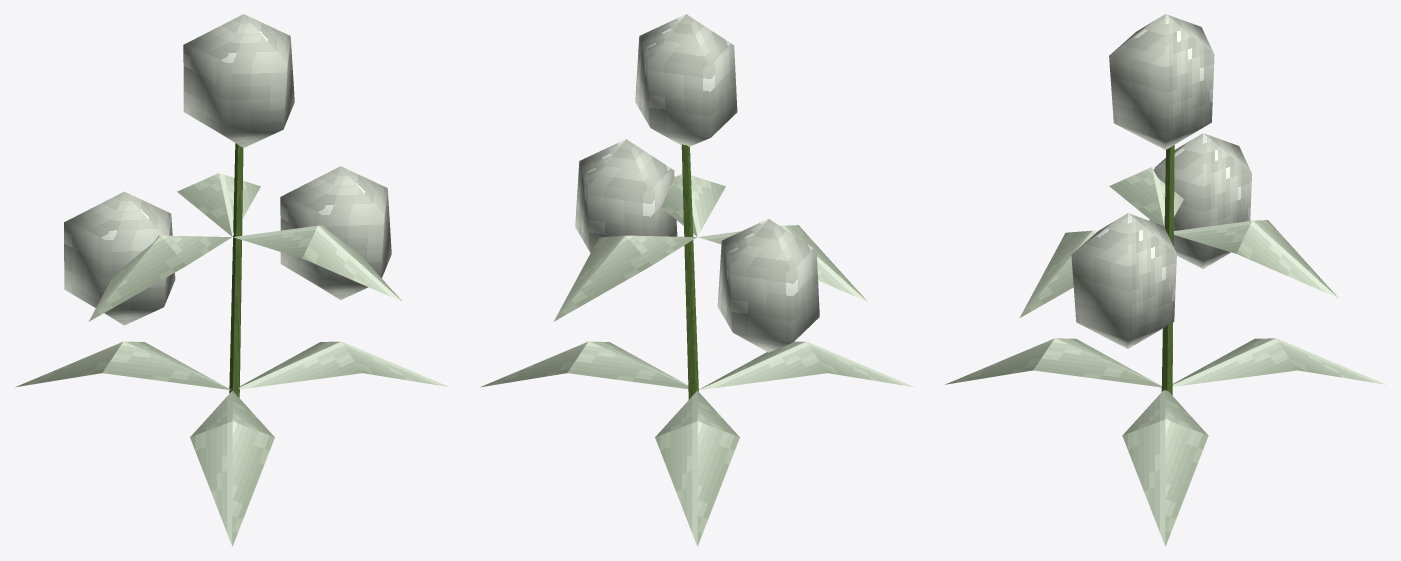
Rendered from bushy_3_lod.obj.
3 renders of one model, left to right at view 1: azimuth 30°, elevation 25°; view 2: azimuth 150°, elevation 25°; view 3: azimuth 270°, elevation 25°, orthographic.
Visible parts, largest first — view 1: plant; view 2: plant; view 3: plant.
Boxes of the visible parts, x1,y1,x2,y2 form: plant: (15,14,449,546); plant: (480,14,914,546); plant: (945,14,1385,546).
Size of the model in its own units: 0.7324 by 0.9418 by 0.7366.
